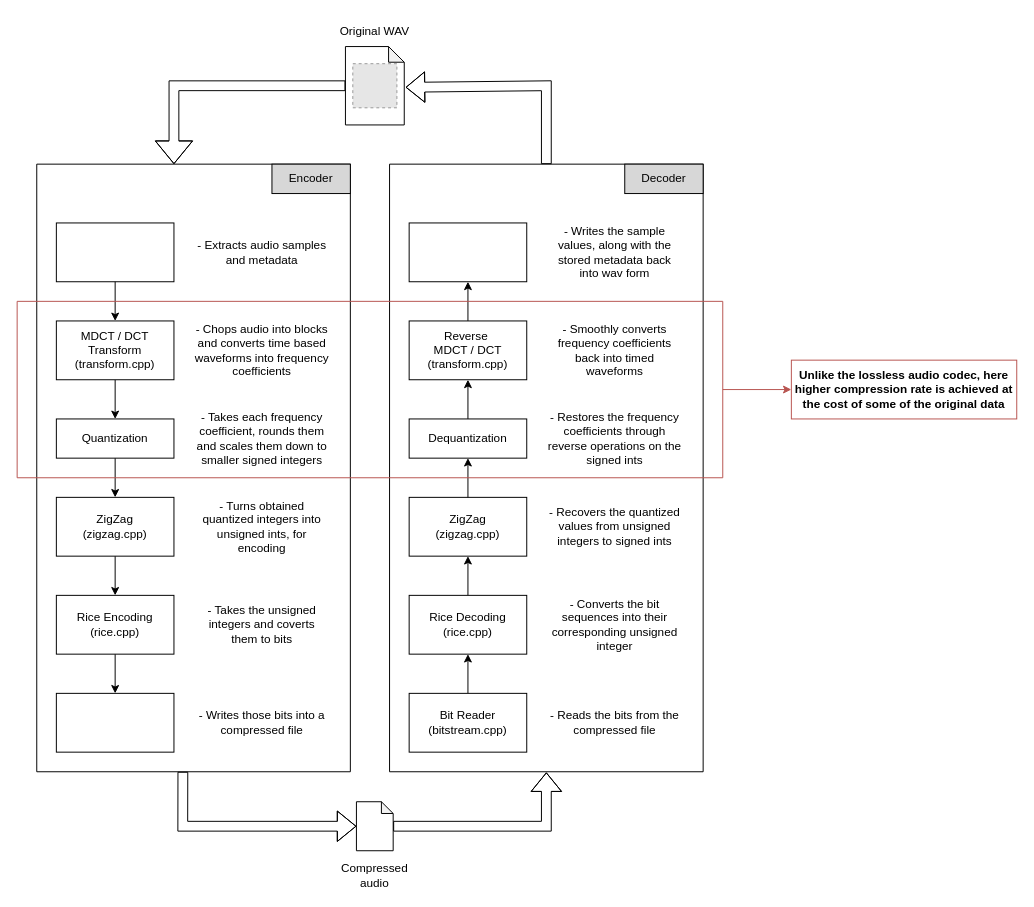
Some shapes in this 1034 by 907 pixel diagram are drawn without their labels. Grey dashed boxes stand in for pictures. The box of each missing label's shape, as (x1, y1, x2, y2) in pixels:
Bit Writer (bitstream.cpp): (55, 692, 174, 752)
WAV Reader (wav .cpp): (55, 222, 174, 282)
WAV Writer (wav .cpp): (408, 222, 527, 282)
